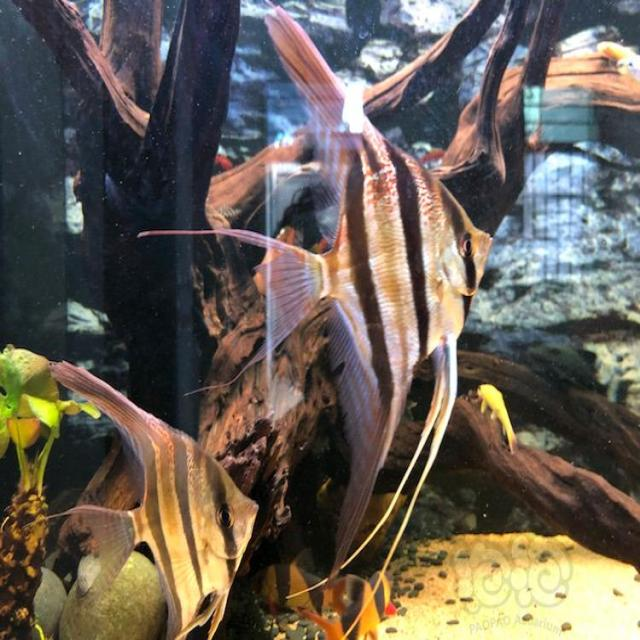AngelFish: (264, 5, 498, 603), (60, 355, 261, 639)
